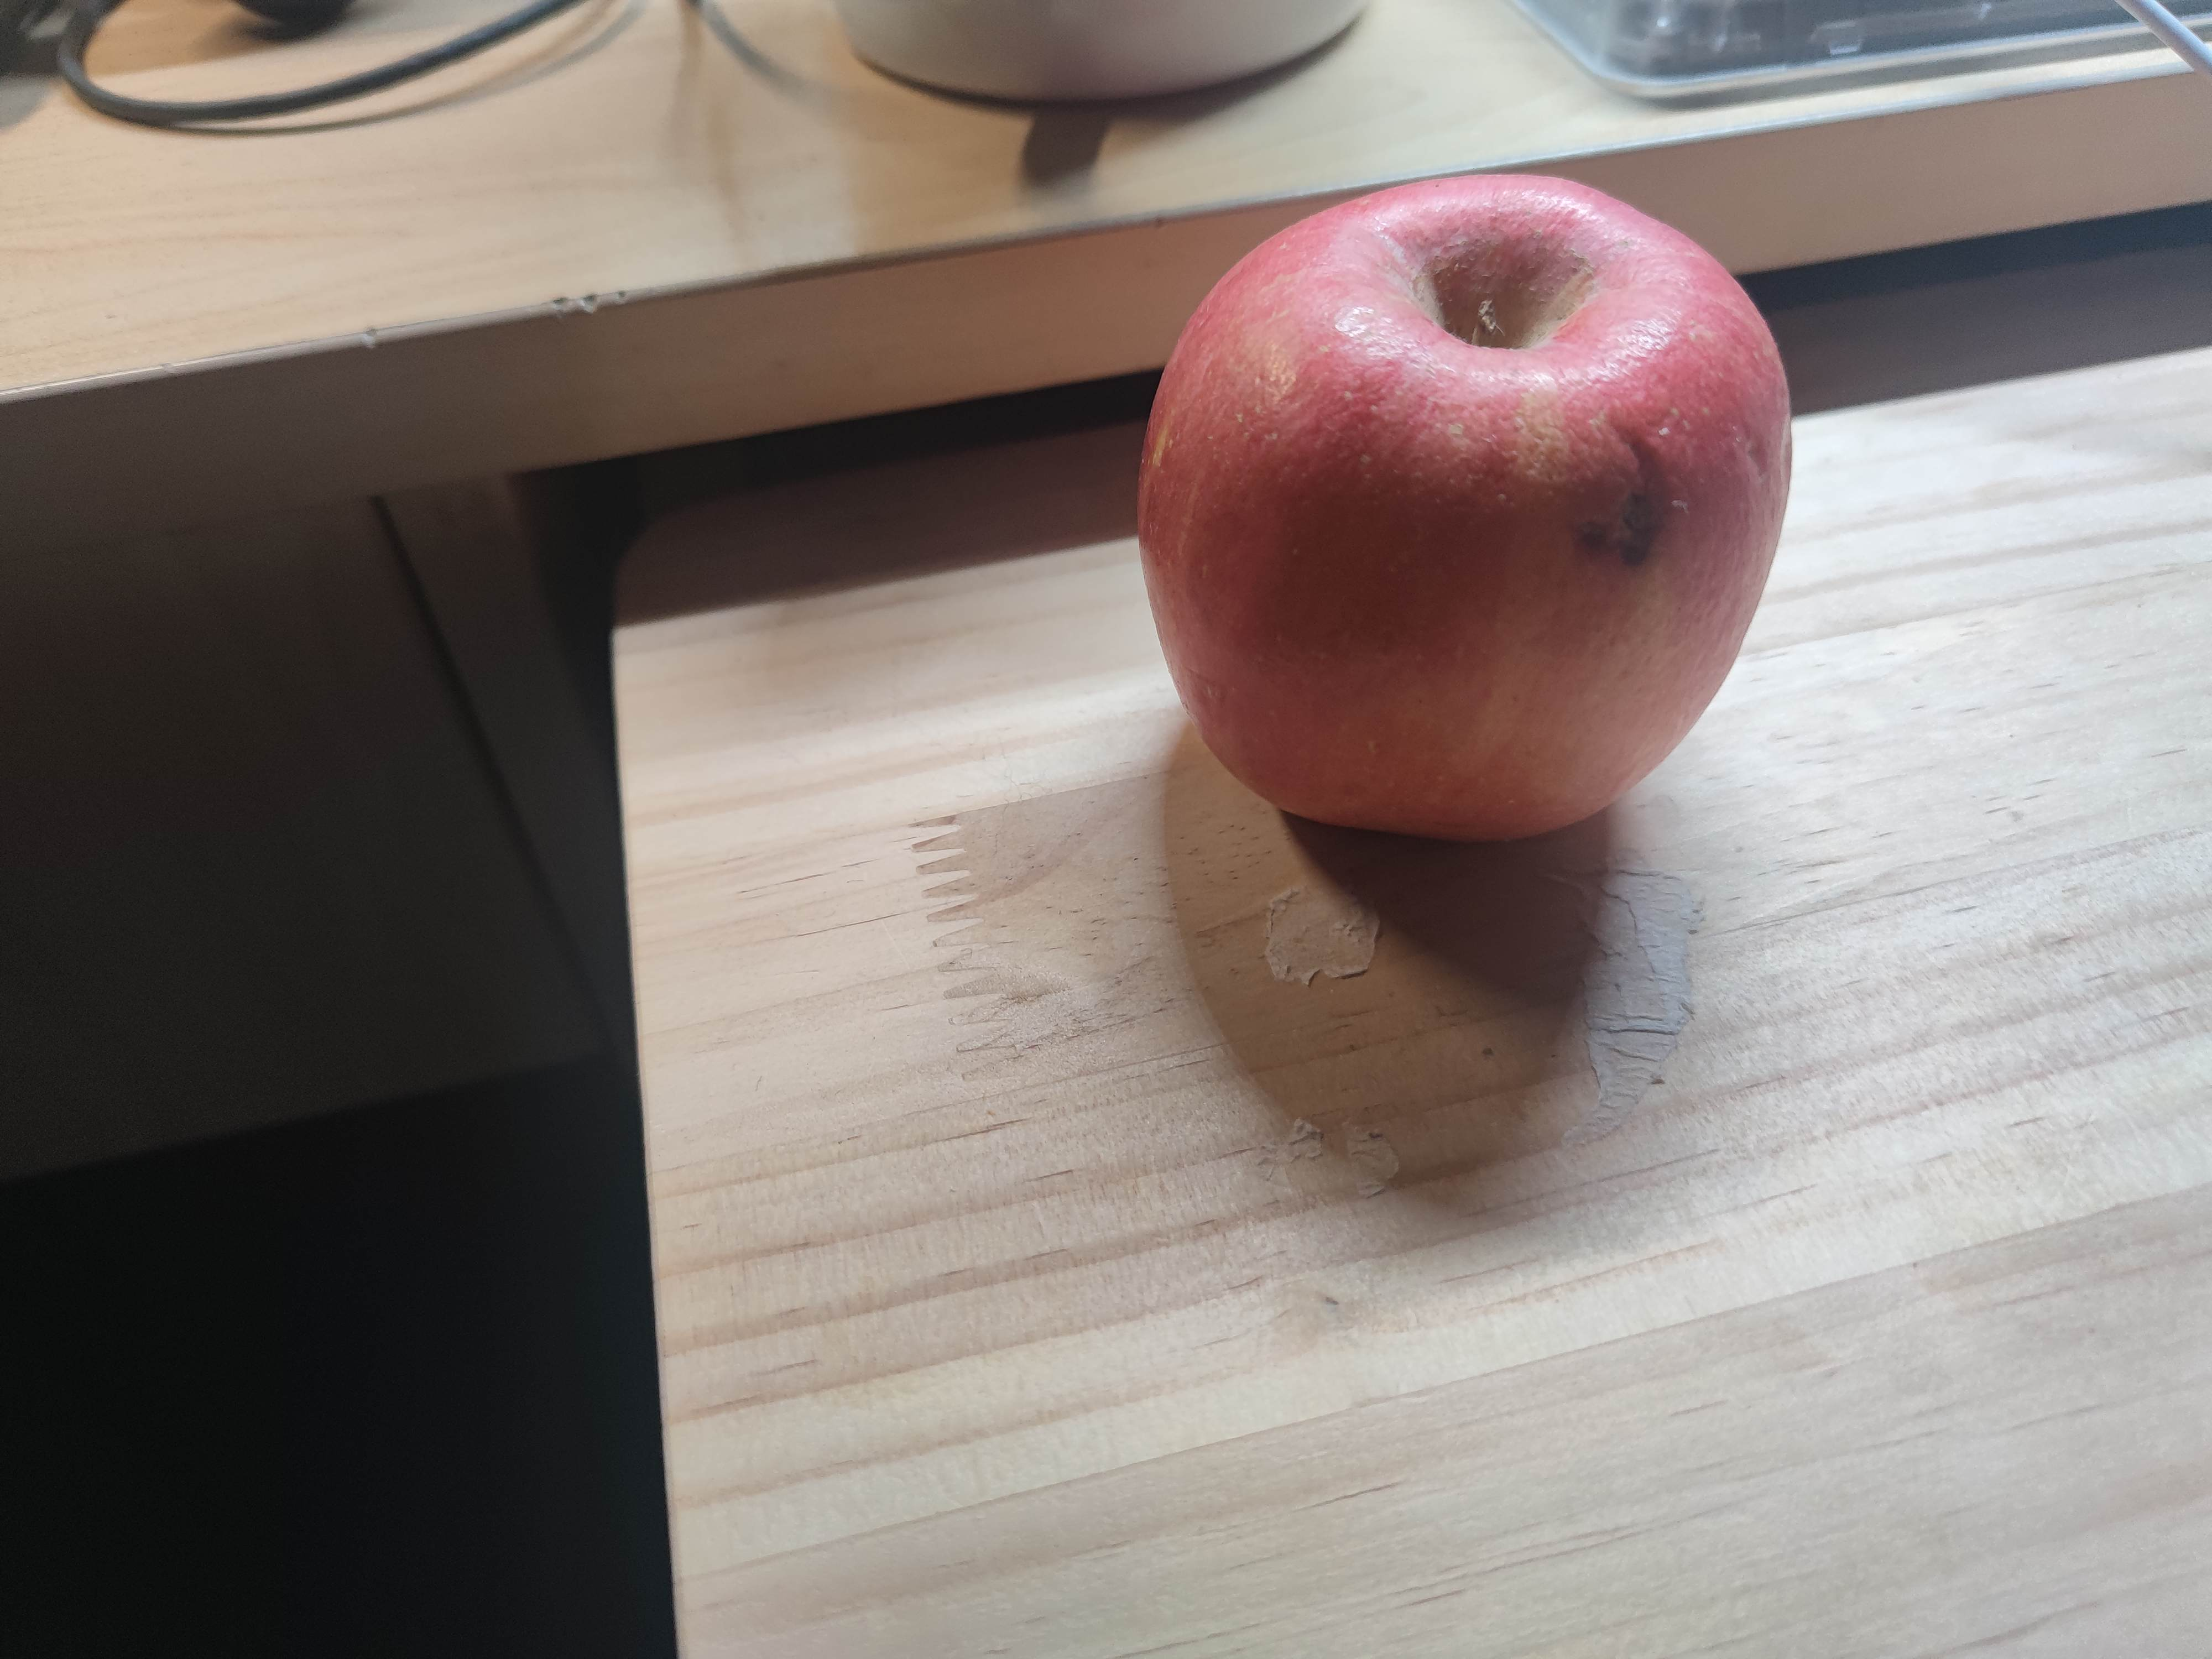apple: (1130, 171, 1797, 845)
